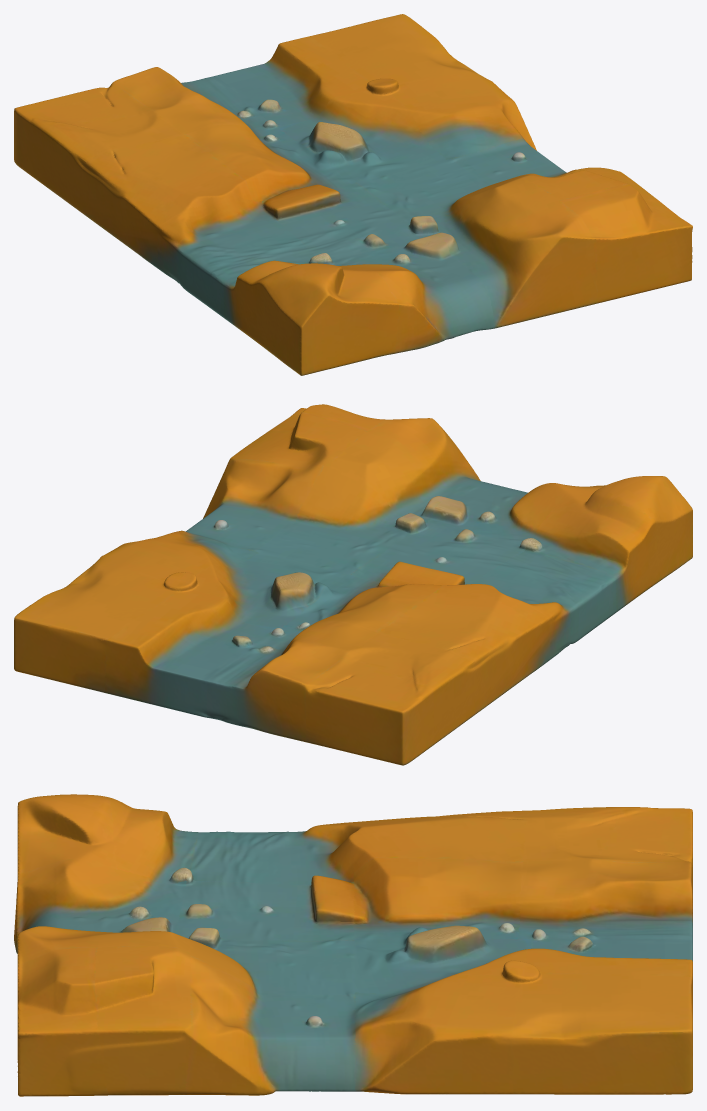
3 renders of one model, top to bottom at view 1: azimuth 30°, elevation 25°; view 2: azimuth 150°, elevation 25°; view 3: azimuth 270°, elevation 25°, orthographic. The views are drawn at different scales.
Parts seen in each view (by area): view 1: tripo_node_3c54ec27-cdec-4198-b89c-782ce2205bf5; view 2: tripo_node_3c54ec27-cdec-4198-b89c-782ce2205bf5; view 3: tripo_node_3c54ec27-cdec-4198-b89c-782ce2205bf5.
Part boxes in pixels (x1=…): tripo_node_3c54ec27-cdec-4198-b89c-782ce2205bf5: x1=14, y1=14, x2=692, y2=375; tripo_node_3c54ec27-cdec-4198-b89c-782ce2205bf5: x1=14, y1=404, x2=692, y2=765; tripo_node_3c54ec27-cdec-4198-b89c-782ce2205bf5: x1=14, y1=794, x2=692, y2=1096.
Size of the model in its own units: 0.7796 by 0.163 by 1.
1 material, 1 textured.
